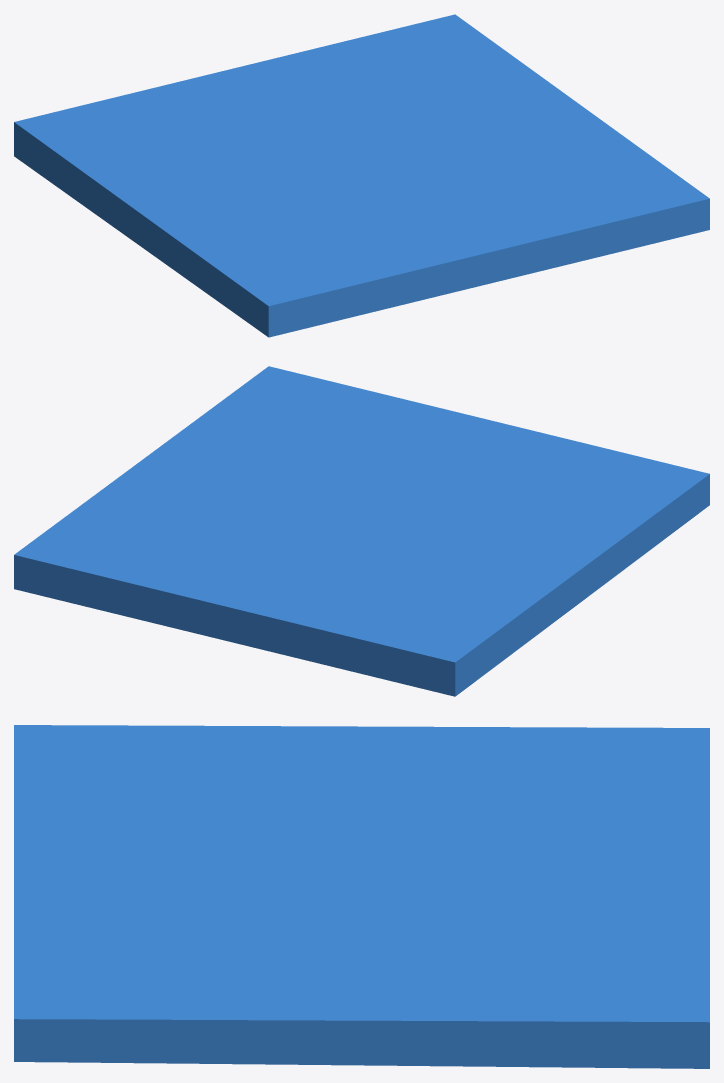
The model's file is Collision_Roof_Wooden_2x1_Middle.fbx.
The picture shows the model from 3 angles, top to bottom: view 1: azimuth 30°, elevation 25°; view 2: azimuth 150°, elevation 25°; view 3: azimuth 270°, elevation 25°; orthographic projection. The views are drawn at different scales.
Visible parts, largest first — view 1: UCX_Roof_Wooden_2x1_Middle_1; view 2: UCX_Roof_Wooden_2x1_Middle_1; view 3: UCX_Roof_Wooden_2x1_Middle_1.
Boxes of the visible parts, left/top/right/bottom form: UCX_Roof_Wooden_2x1_Middle_1: left=14, top=14, right=709, bottom=337; UCX_Roof_Wooden_2x1_Middle_1: left=14, top=366, right=709, bottom=696; UCX_Roof_Wooden_2x1_Middle_1: left=14, top=725, right=709, bottom=1068.
Bounding box in the file's own units: 200 × 15.81 × 200.
